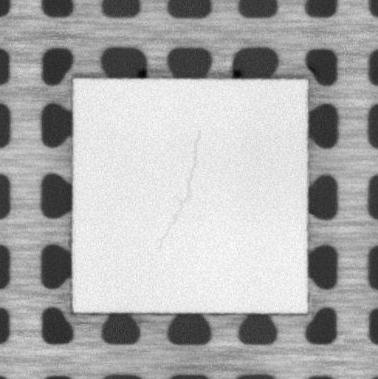DIE_CRACK: (157, 130, 200, 252)
